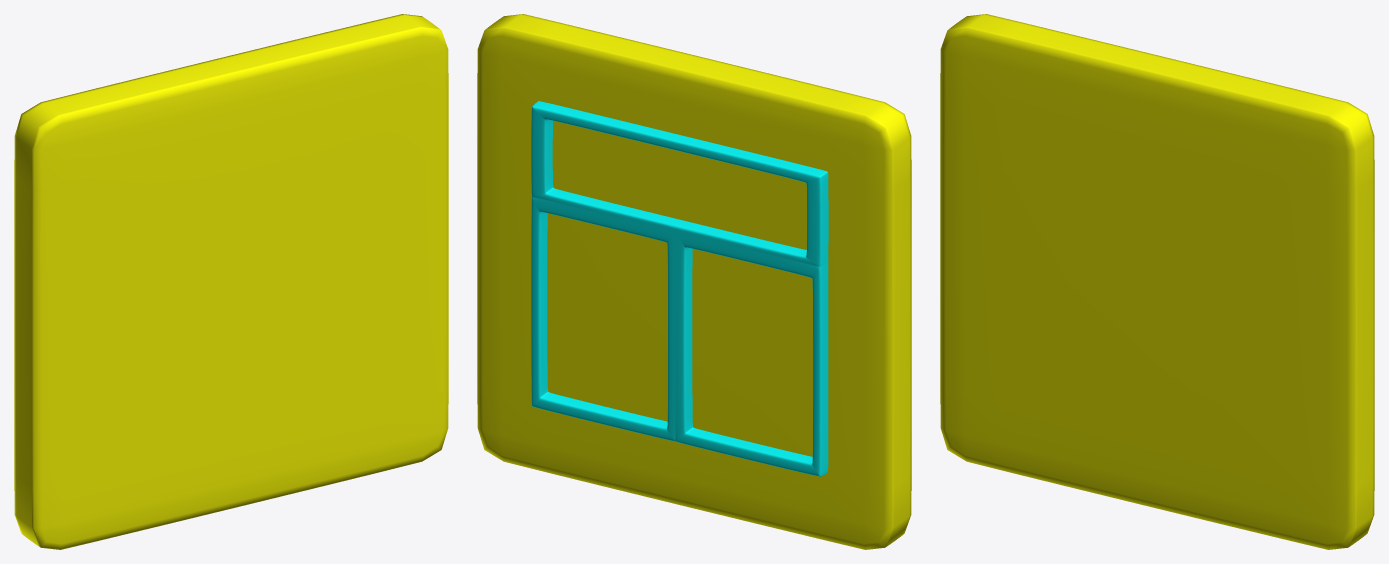
The picture shows the model from 3 angles, left to right: view 1: azimuth 30°, elevation 25°; view 2: azimuth 150°, elevation 25°; view 3: azimuth 330°, elevation 25°; orthographic projection.
Parts seen in each view (by area): view 1: polySurface992; view 2: polySurface992; view 3: polySurface992.
Part boxes in pixels (left/top/right/bottom): polySurface992: left=14, top=14, right=448, bottom=549; polySurface992: left=477, top=14, right=911, bottom=549; polySurface992: left=940, top=14, right=1374, bottom=549.
Bounding box in the file's own units: 0.9994 × 0.9994 × 0.1295.
